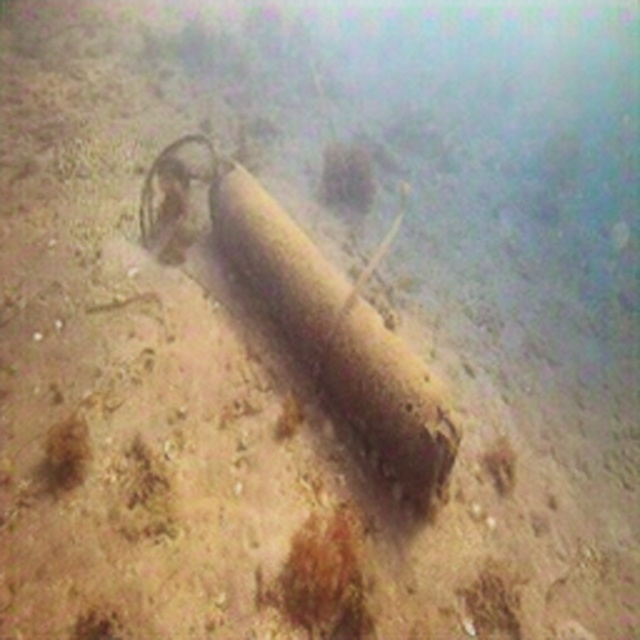mine: (207, 156, 464, 515)
